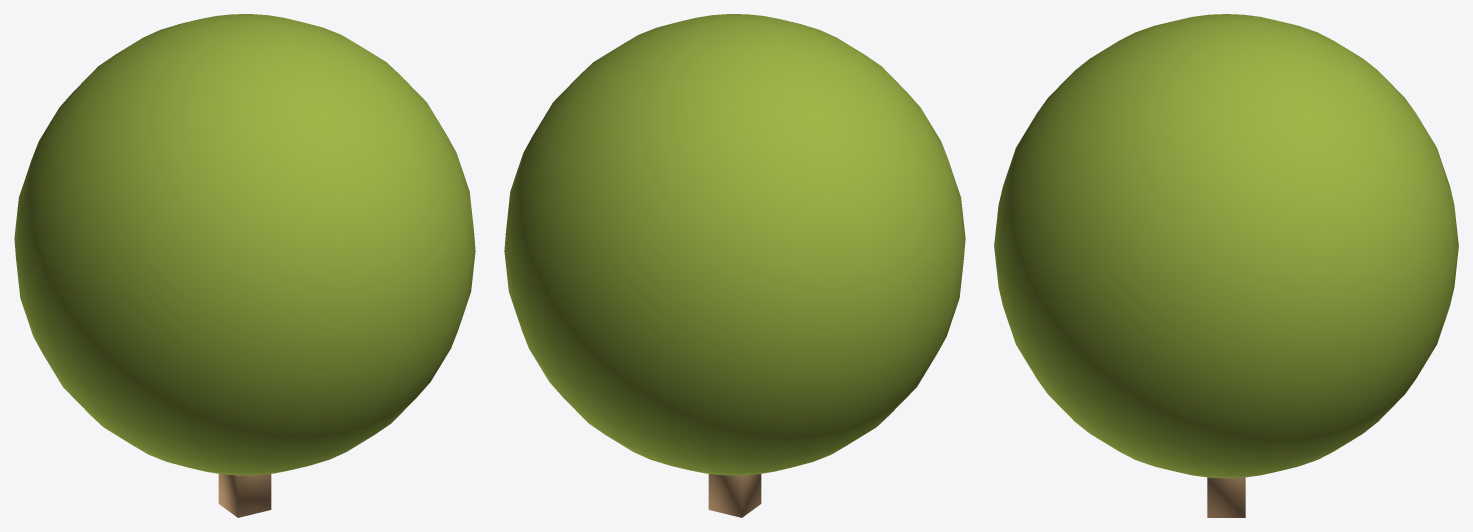
The model's file is tree_02.fbx.
3 views of the same model, side by side, from view 1: azimuth 30°, elevation 25°; view 2: azimuth 150°, elevation 25°; view 3: azimuth 270°, elevation 25° (orthographic).
Visible parts, largest first — view 1: Tree; view 2: Tree; view 3: Tree.
Part boxes in pixels (x1,y1,x2,y2): Tree: (14,14,475,517); Tree: (504,14,965,517); Tree: (994,14,1458,517).
Size of the model in its own units: 343 by 386 by 343.
